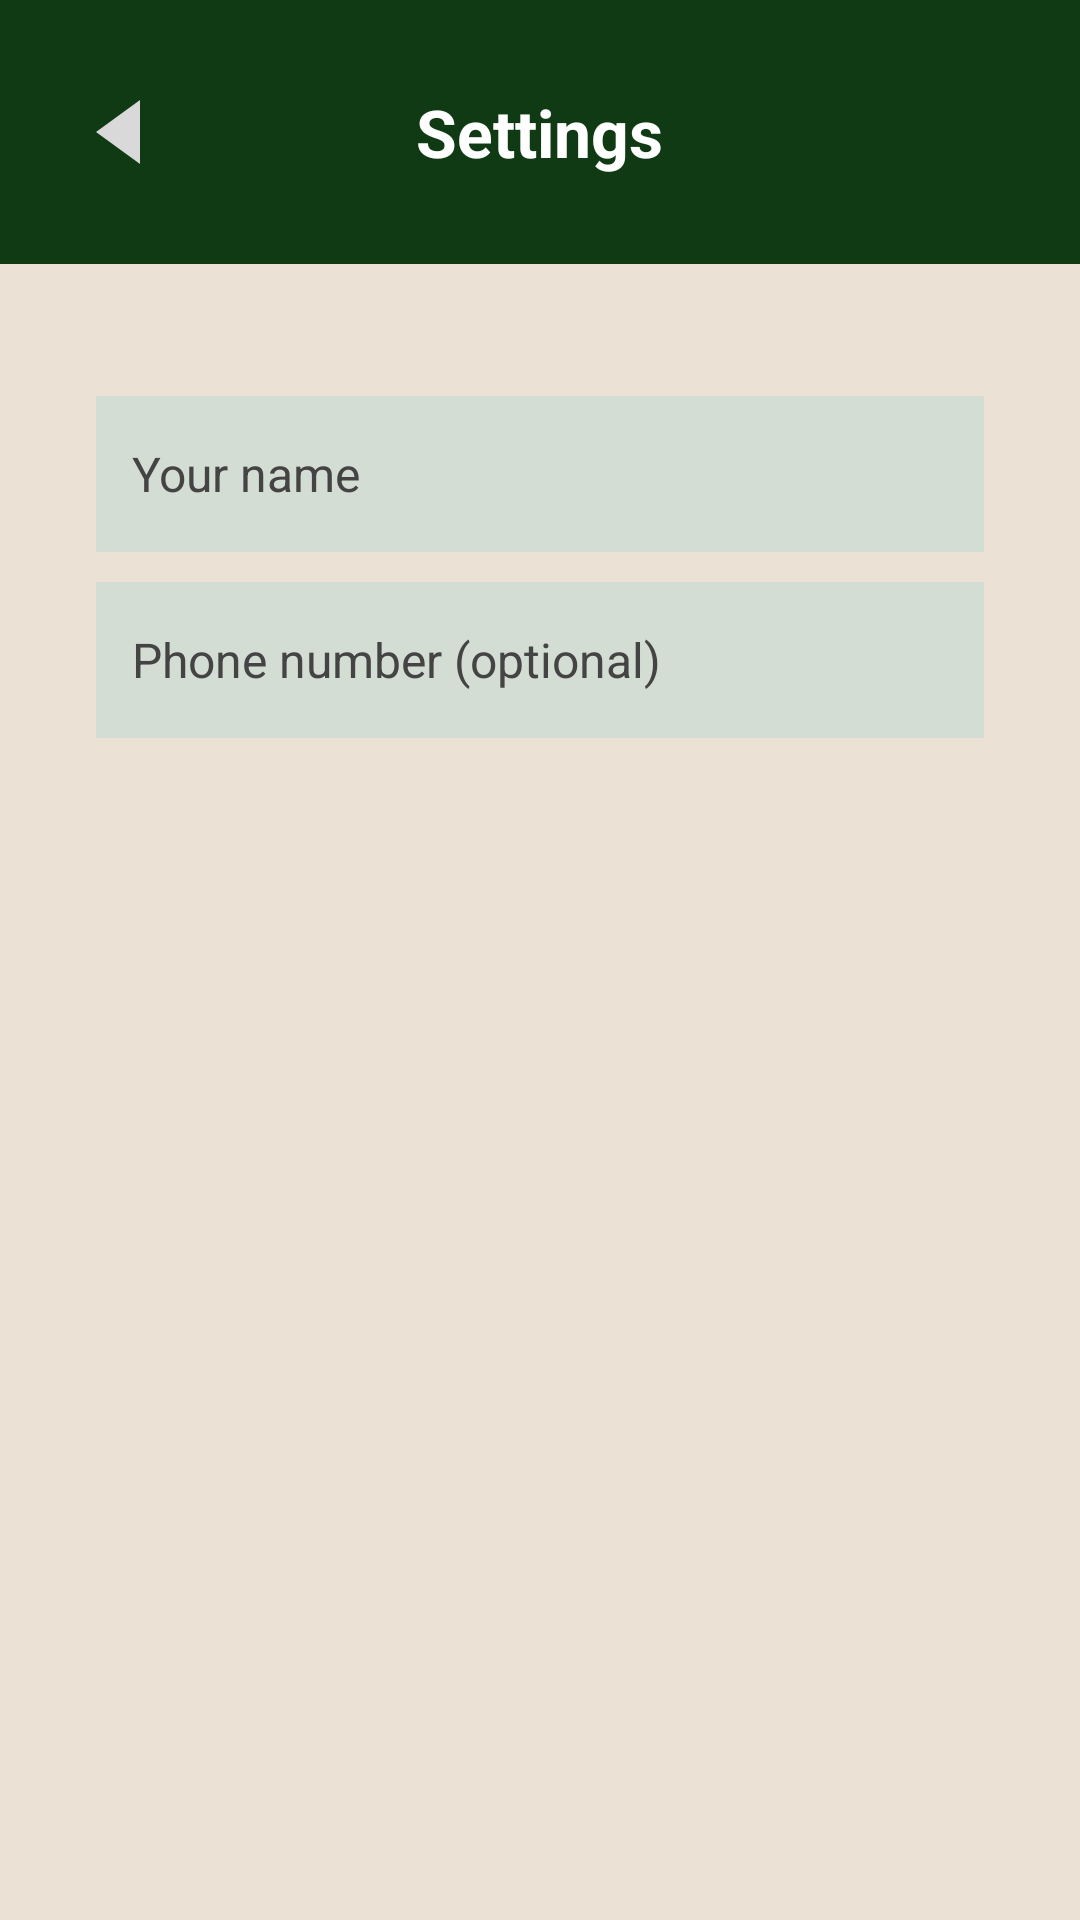

Icon click points for this 1080w x 1920h phone screenshot, format [x,y]:
Back: [118,132]
